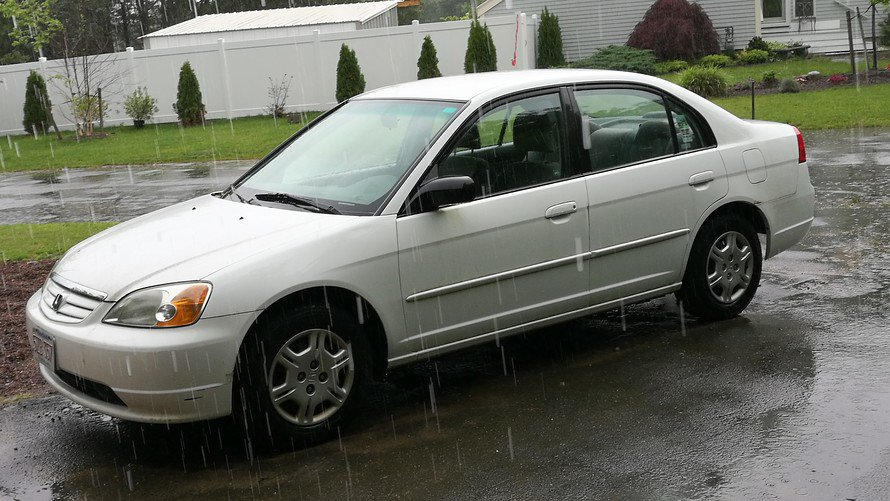car: (39, 63, 823, 449)
